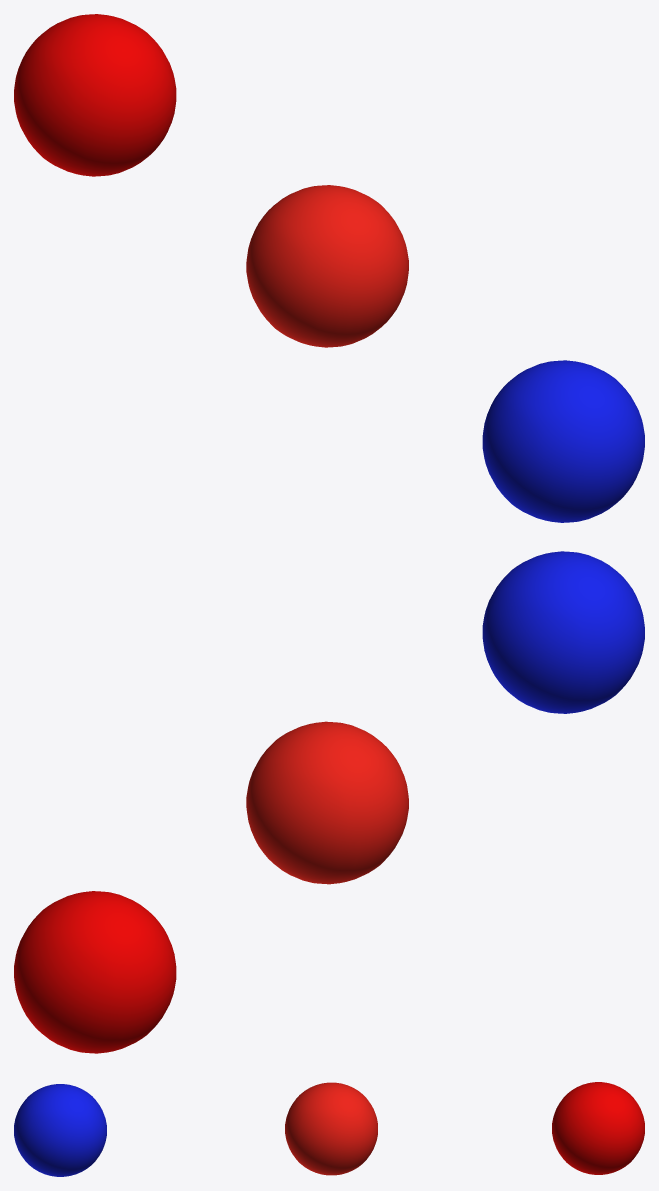
The model's file is Caso(-,+,+).glb.
The picture shows the model from 3 angles, top to bottom: view 1: azimuth 30°, elevation 25°; view 2: azimuth 150°, elevation 25°; view 3: azimuth 270°, elevation 25°; orthographic projection. The views are drawn at different scales.
Parts seen in each view (by area): view 1: Carga 2, Carga 3, Carga 1; view 2: Carga 3, Carga 1, Carga 2; view 3: Carga 2, Carga 1, Carga 3.
Part boxes in pixels (left/top/right/bottom): Carga 2: left=246, top=185, right=408, bottom=347; Carga 3: left=14, top=14, right=176, bottom=176; Carga 1: left=482, top=360, right=644, bottom=522; Carga 3: left=14, top=891, right=176, bottom=1053; Carga 1: left=482, top=551, right=644, bottom=713; Carga 2: left=246, top=721, right=408, bottom=884; Carga 2: left=285, top=1082, right=377, bottom=1175; Carga 1: left=14, top=1084, right=106, bottom=1176; Carga 3: left=552, top=1082, right=644, bottom=1174.
Bounding box in the file's own units: 3.44 × 3.52 × 23.37.
